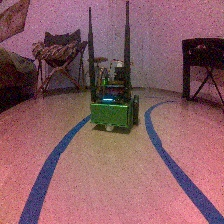rob: (88, 65, 140, 133)
